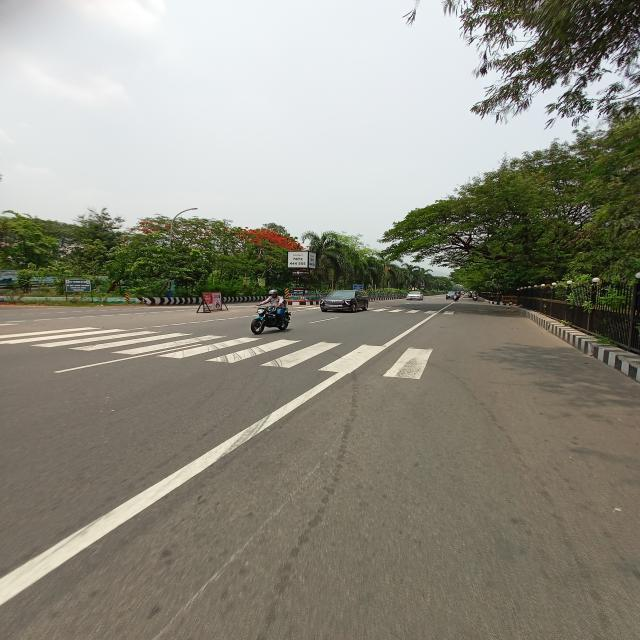bike: (245, 305, 302, 337)
car: (316, 286, 378, 316), (404, 290, 426, 302)
